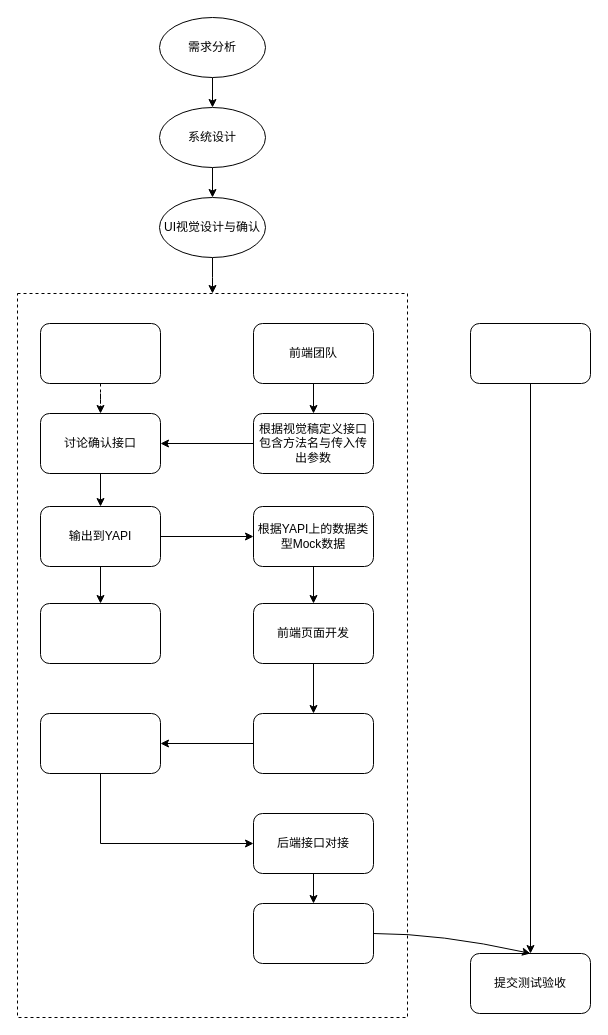
The diagram is 608 pixels wide and 1035 high, and some of its shapes have lost their labels. The centre of each missing label's shape, as x and y in pixels:
"初版页面交互评估" belongs at [313,743].
"后端业务及接口开发" belongs at [100,633].
"后端团队" belongs at [100,353].
"后端接口调整" belongs at [100,743].
"提交功能测试" belongs at [313,933].
"测试团队" belongs at [530,353].
